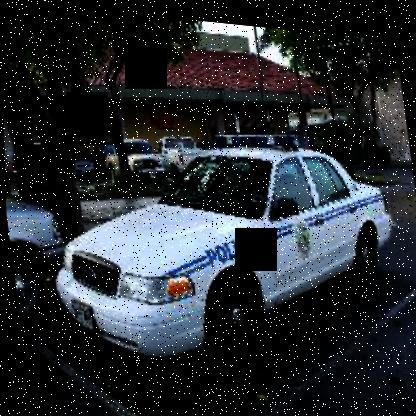emergency: (31, 105, 415, 390)
